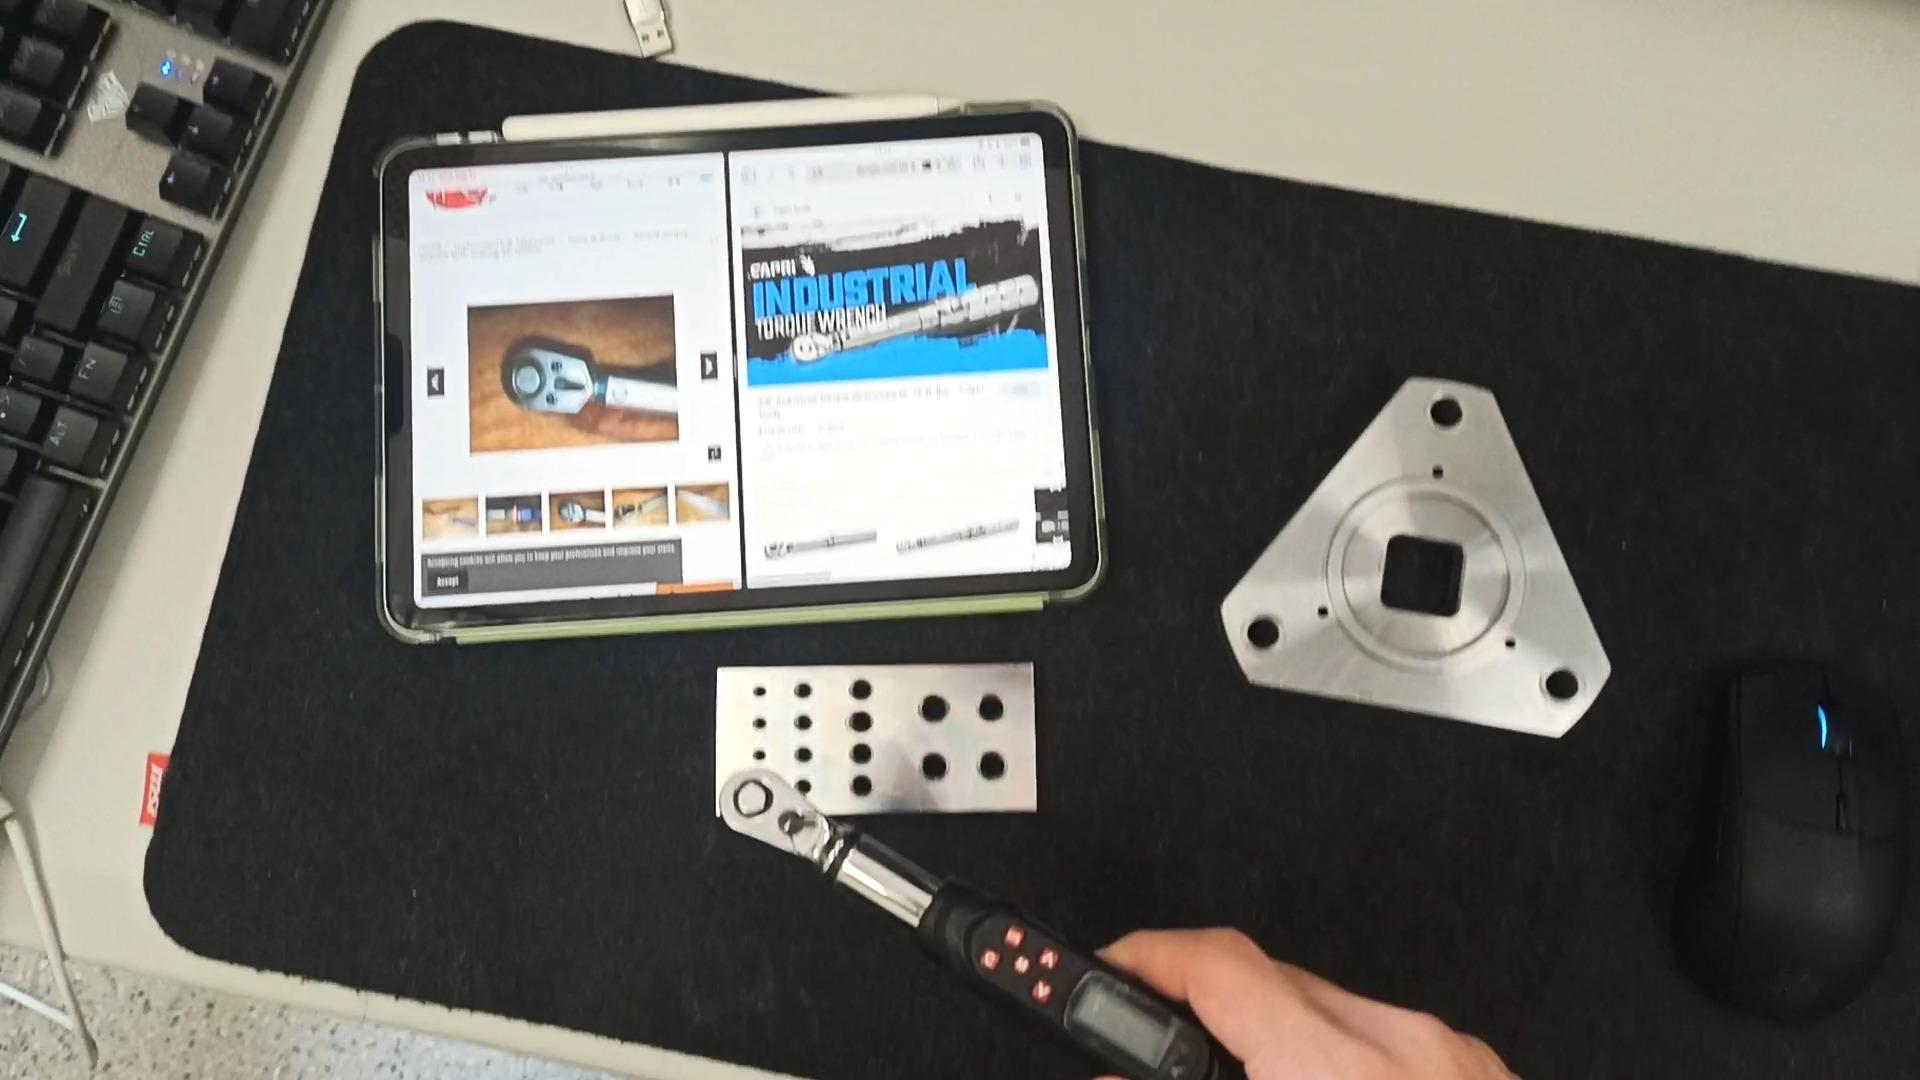Tool: (715, 765, 832, 866), (493, 342, 596, 421)
hole: (1532, 658, 1584, 725), (1229, 611, 1292, 658), (1414, 394, 1474, 438), (965, 745, 1021, 783), (971, 687, 1022, 723), (910, 691, 960, 723), (907, 746, 957, 778), (837, 704, 882, 732), (840, 740, 882, 766), (837, 774, 880, 799), (839, 675, 880, 700), (786, 709, 822, 731), (785, 679, 819, 699), (789, 745, 822, 765), (787, 778, 820, 796), (738, 712, 771, 731), (740, 745, 771, 764), (741, 683, 770, 700)
